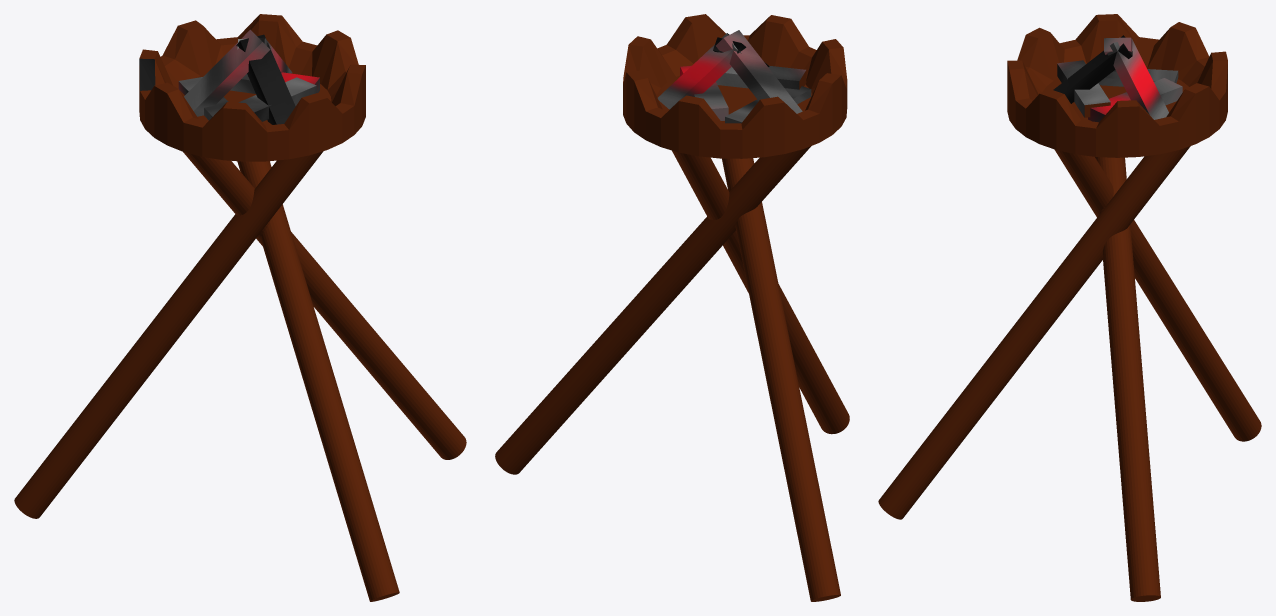
File: torch.obj
3 renders of one model, left to right at view 1: azimuth 30°, elevation 25°; view 2: azimuth 150°, elevation 25°; view 3: azimuth 270°, elevation 25°, orthographic. The views are drawn at different scales.
Visible parts, largest first — view 1: 立方体.002; view 2: 立方体.002; view 3: 立方体.002.
Part boxes in pixels (box(x1,y1,x2,y2)): 立方体.002: box(14, 14, 466, 601); 立方体.002: box(495, 14, 849, 601); 立方体.002: box(878, 14, 1261, 601).
Bounding box in the file's own units: 0.9128 × 1.08 × 0.7859.
Materials: 1 (1 with a texture image).
